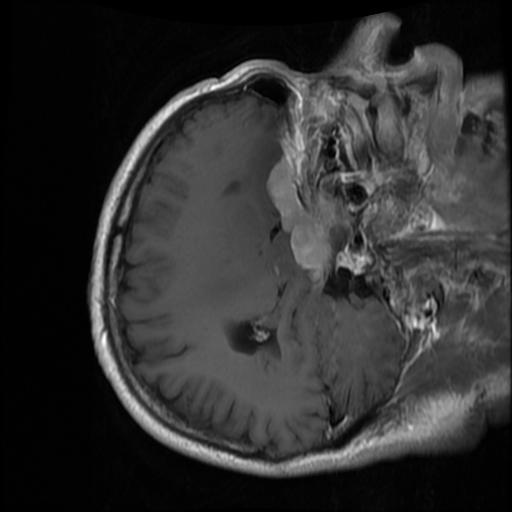meningioma: (265, 156, 346, 285)
